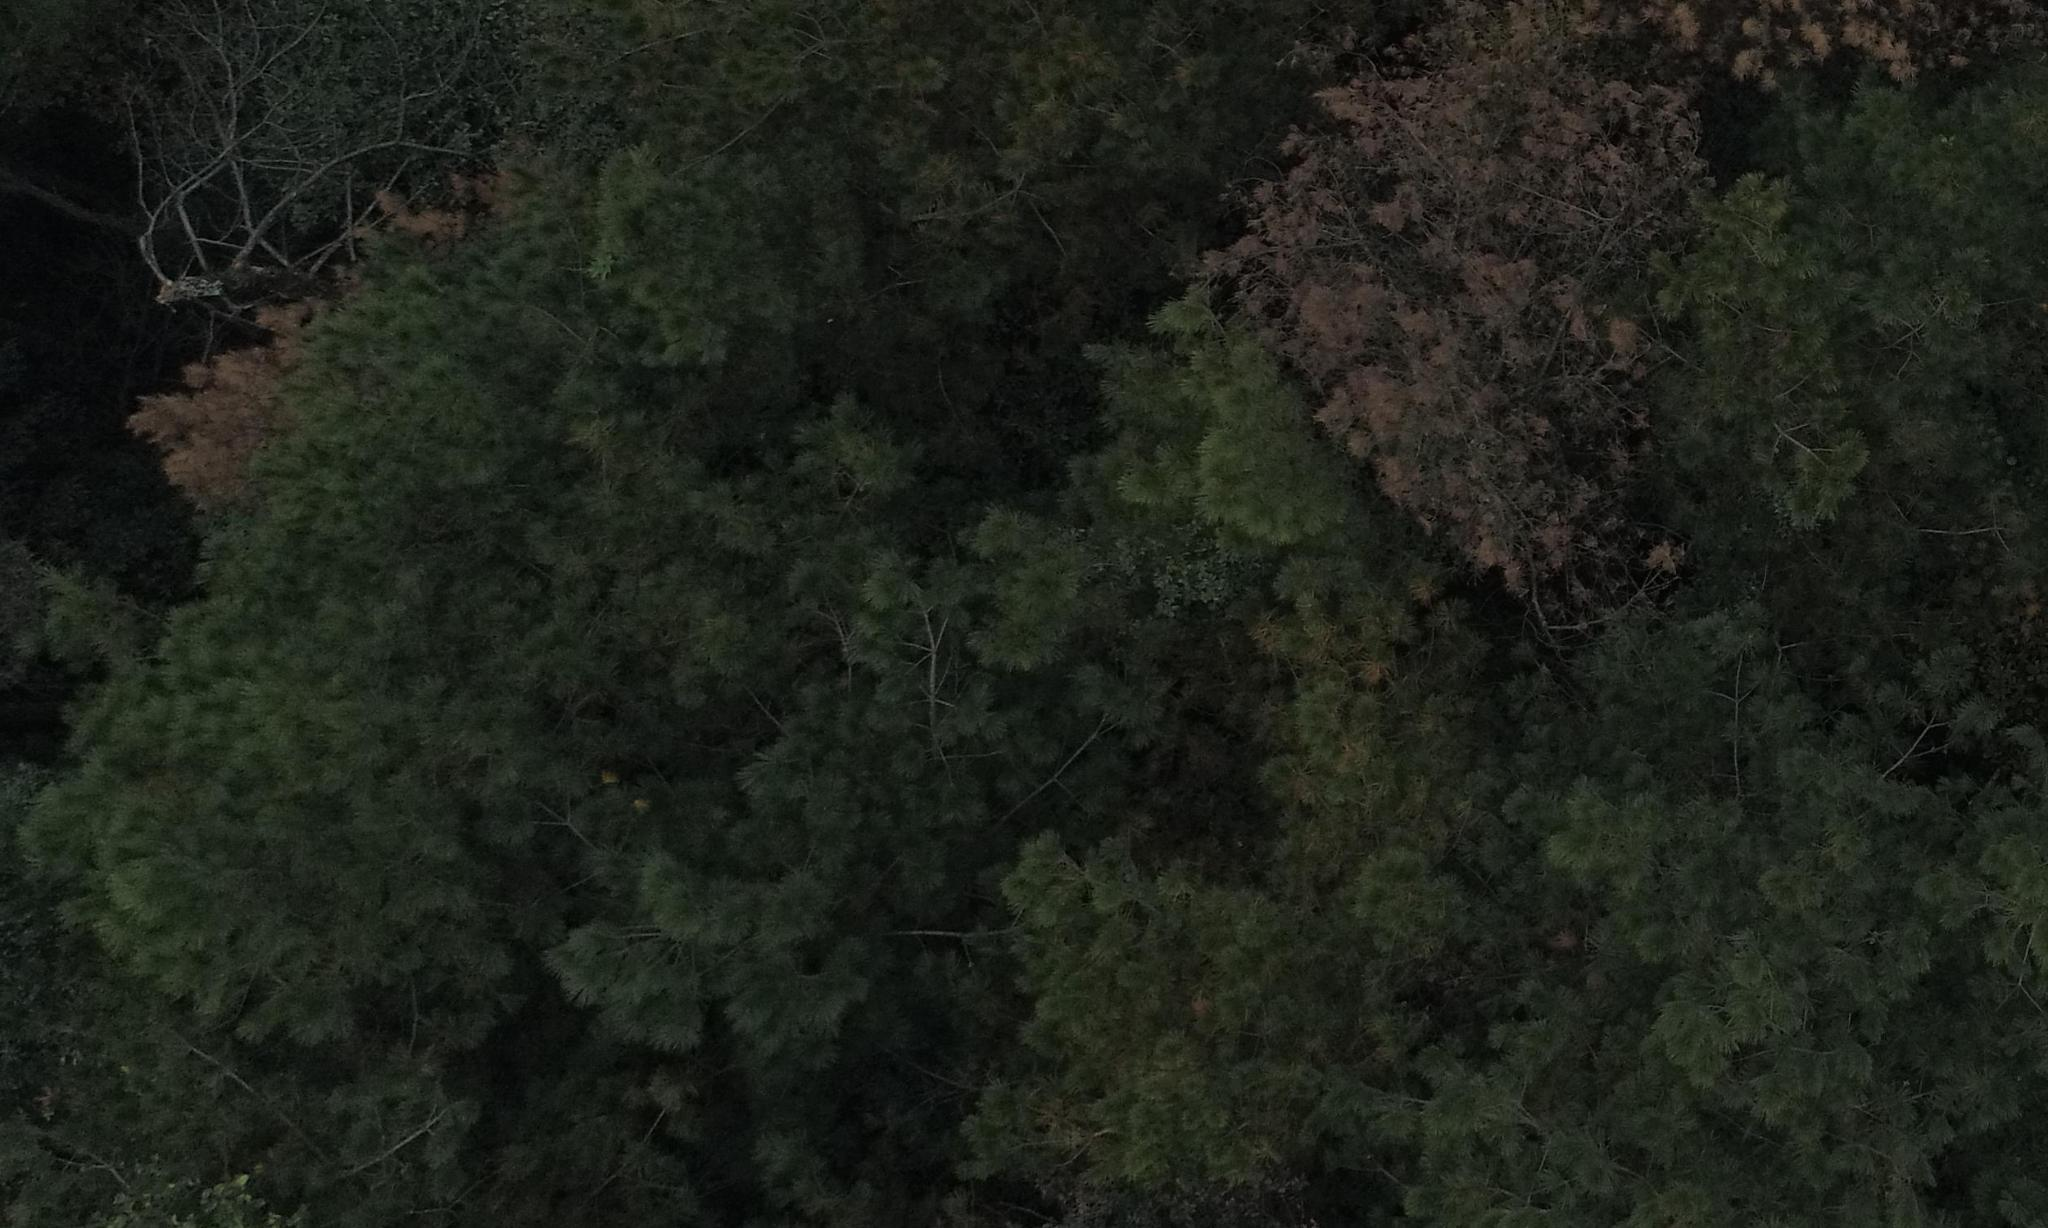heavy: (1215, 23, 1691, 595), (111, 291, 313, 501)
